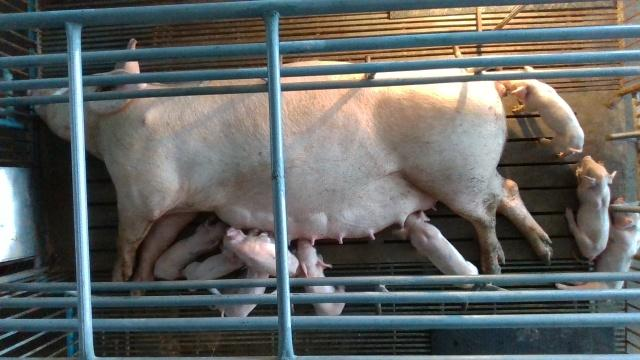piglet: (213, 234, 299, 317), (559, 206, 640, 293), (500, 79, 585, 158), (395, 210, 479, 288), (562, 155, 613, 260), (156, 216, 229, 279), (292, 240, 345, 316), (221, 227, 299, 277), (183, 230, 250, 288)
sow-sleep-lactate: (28, 39, 553, 297)
